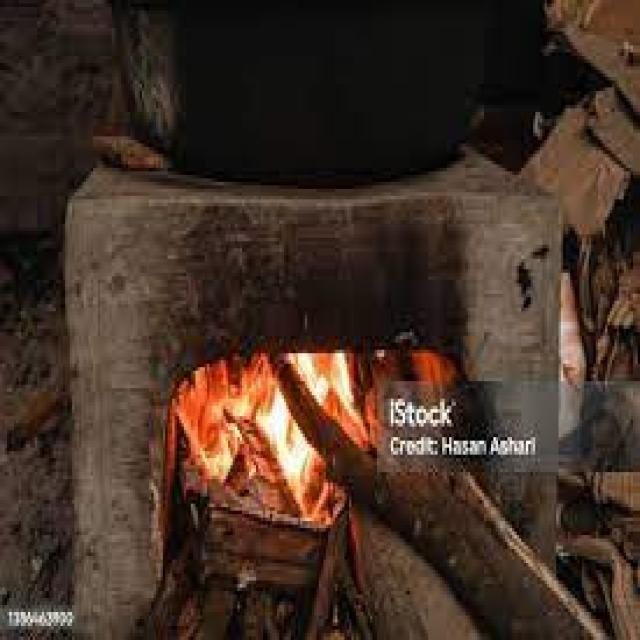fire: (199, 350, 367, 517)
